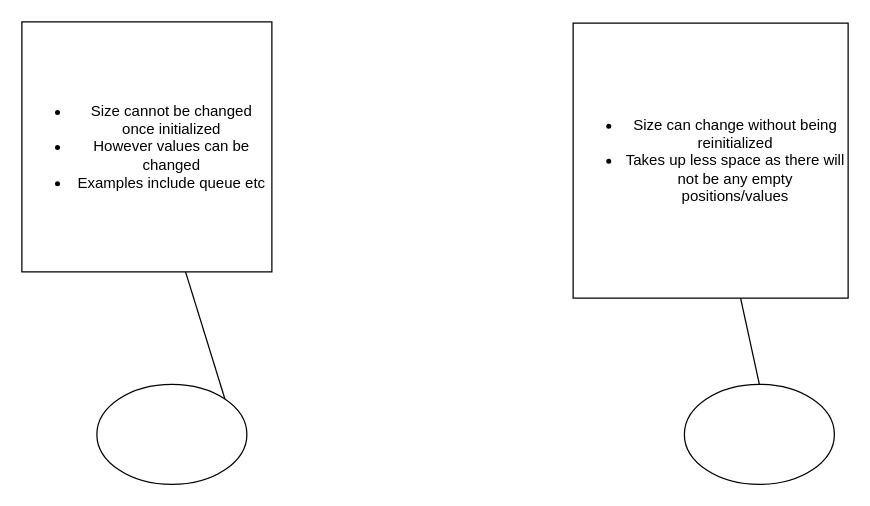
Some shapes in this 870 by 506 pixel diagram are drawn without their labels. Each missing label, with the box of its shape:
Dynamic: (683, 383, 834, 484)
Static: (96, 383, 247, 484)
